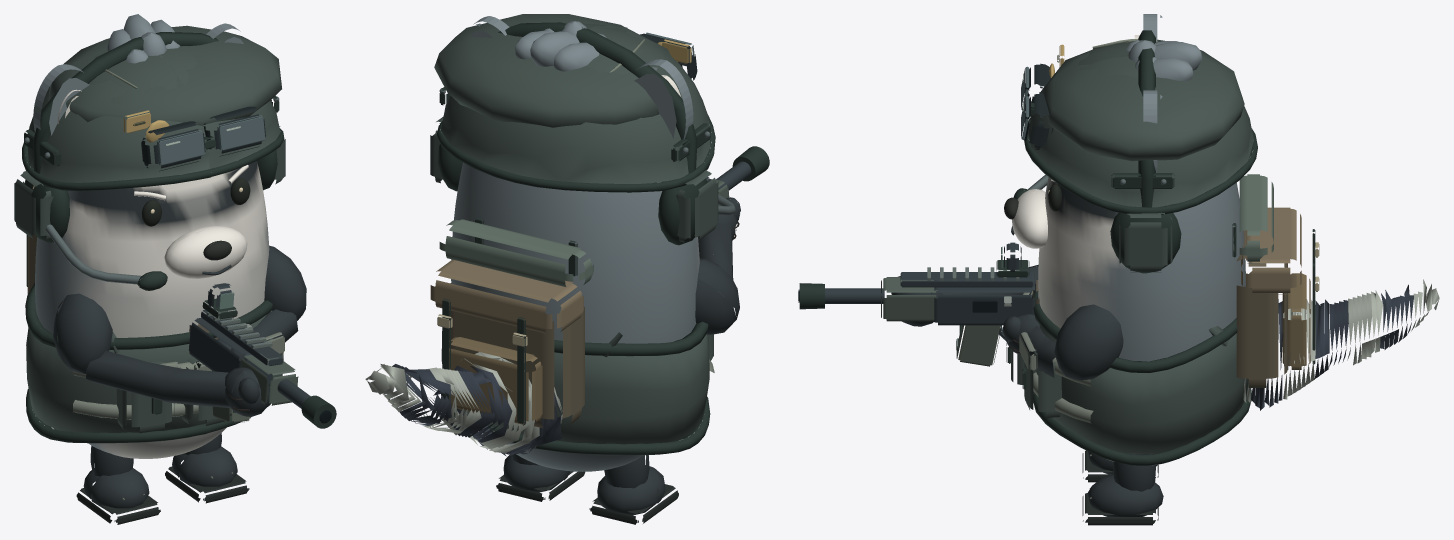
File: raccoon.glb
3 views of the same model, side by side, from view 1: azimuth 30°, elevation 25°; view 2: azimuth 150°, elevation 25°; view 3: azimuth 270°, elevation 25° (orthographic). The views are drawn at different scales.
Visible parts, largest first — view 1: raccoon_torso_mesh, raccoon_helmet_mesh, raccoon_weapon_mesh, raccoon_vest_mesh, raccoon_beret_mesh, raccoon_headset_mesh, raccoon_goggles_mesh, raccoon_leftFoot_mesh, raccoon_leftArm_mesh, raccoon_snout_mesh, raccoon_rightFoot_mesh, raccoon_rightArm_mesh (+7 smaller); view 2: raccoon_torso_mesh, raccoon_pack_mesh, raccoon_helmet_mesh, raccoon_vest_mesh, raccoon_beret_mesh, raccoon_tail_mesh, raccoon_headset_mesh, raccoon_leftFoot_mesh, raccoon_weapon_mesh, raccoon_leftArm_mesh, raccoon_crestSwept_mesh, raccoon_rightFoot_mesh (+2 smaller); view 3: raccoon_torso_mesh, raccoon_vest_mesh, raccoon_beret_mesh, raccoon_weapon_mesh, raccoon_helmet_mesh, raccoon_pack_mesh, raccoon_tail_mesh, raccoon_headset_mesh, raccoon_rightFoot_mesh, raccoon_rightArm_mesh, raccoon_snout_mesh, raccoon_goggles_mesh (+2 smaller).
Part boxes in pixels (<box>): raccoon_torso_mesh: <box>35,161,269,458</box>; raccoon_helmet_mesh: <box>22,46,284,190</box>; raccoon_weapon_mesh: <box>86,283,336,428</box>; raccoon_vest_mesh: <box>25,283,284,443</box>; raccoon_beret_mesh: <box>48,25,281,142</box>; raccoon_headset_mesh: <box>14,32,285,290</box>; raccoon_goggles_mesh: <box>141,106,265,171</box>; raccoon_leftFoot_mesh: <box>76,445,160,524</box>; raccoon_leftArm_mesh: <box>53,293,112,373</box>; raccoon_snout_mesh: <box>164,226,247,278</box>; raccoon_rightFoot_mesh: <box>165,433,249,503</box>; raccoon_rightArm_mesh: <box>264,245,306,320</box>; raccoon_torso_mesh: <box>451,162,699,471</box>; raccoon_pack_mesh: <box>430,217,593,428</box>; raccoon_helmet_mesh: <box>437,22,715,192</box>; raccoon_vest_mesh: <box>441,283,713,454</box>; raccoon_beret_mesh: <box>434,14,679,127</box>; raccoon_tail_mesh: <box>365,352,562,456</box>; raccoon_headset_mesh: <box>430,22,735,245</box>; raccoon_leftFoot_mesh: <box>589,455,678,524</box>; raccoon_weapon_mesh: <box>698,146,769,297</box>; raccoon_leftArm_mesh: <box>695,258,739,335</box>; raccoon_crestSwept_mesh: <box>515,30,599,71</box>; raccoon_rightFoot_mesh: <box>496,454,585,501</box>; raccoon_torso_mesh: <box>1038,177,1245,465</box>; raccoon_vest_mesh: <box>1006,284,1251,465</box>; raccoon_beret_mesh: <box>1042,39,1244,161</box>; raccoon_weapon_mesh: <box>798,242,1055,377</box>; raccoon_helmet_mesh: <box>1024,39,1257,214</box>; raccoon_pack_mesh: <box>1232,174,1319,387</box>; raccoon_tail_mesh: <box>1243,279,1439,410</box>; raccoon_headset_mesh: <box>1013,30,1181,273</box>; raccoon_rightFoot_mesh: <box>1082,461,1163,525</box>; raccoon_rightArm_mesh: <box>1054,304,1123,380</box>; raccoon_snout_mesh: <box>1004,189,1047,248</box>; raccoon_goggles_mesh: <box>1021,63,1053,149</box>.
Bounding box in the file's own units: 1.15 × 1.98 × 2.53.
